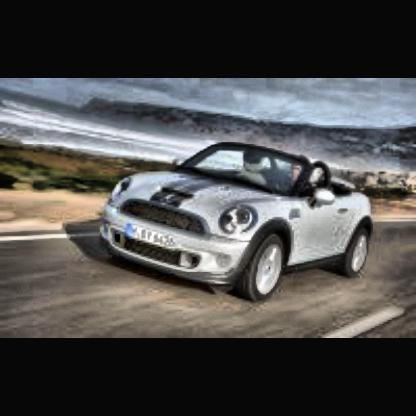MINI Cooper Roadster Convertible 2012: (101, 141, 373, 311)
